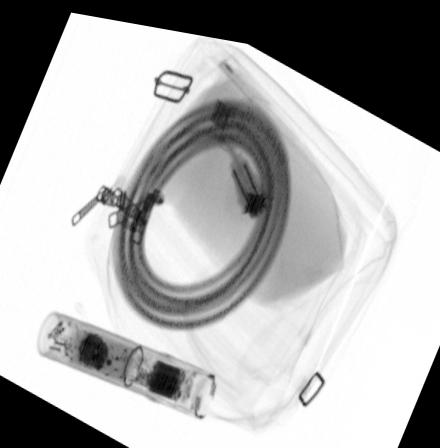Baton: (35, 307, 218, 415)
